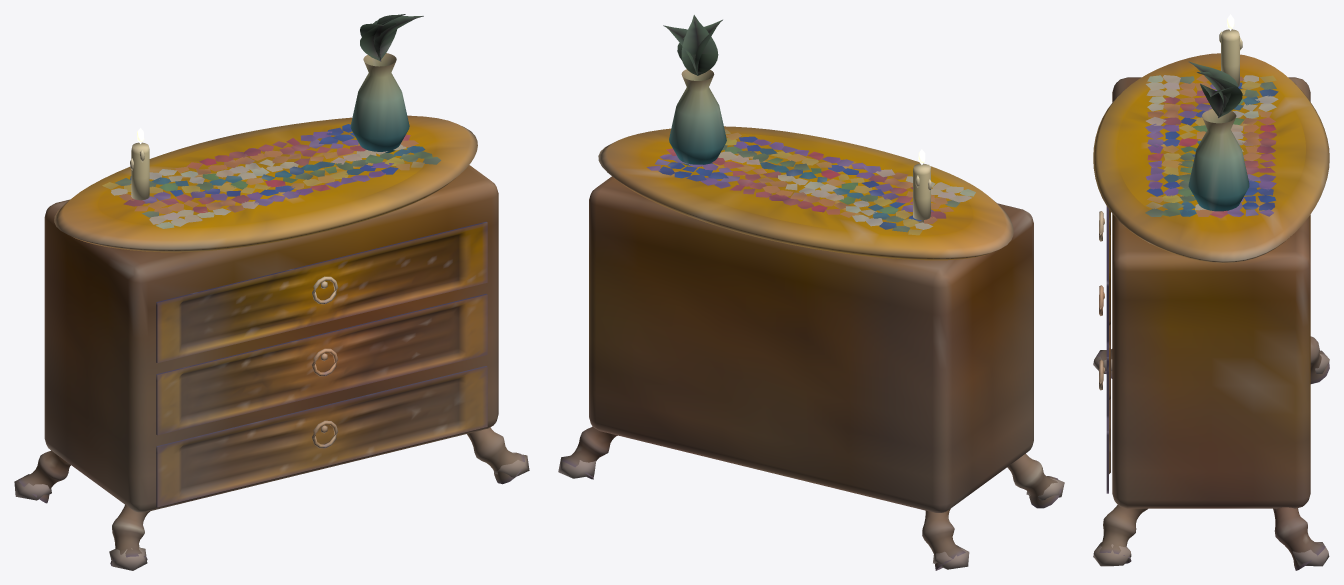
Rendered from gaudi_komodin.glb.
The picture shows the model from 3 angles, left to right: view 1: azimuth 30°, elevation 25°; view 2: azimuth 150°, elevation 25°; view 3: azimuth 270°, elevation 25°; orthographic projection. The views are drawn at different scales.
Parts seen in each view (by area): view 1: gaudi_komodin_LOD0; view 2: gaudi_komodin_LOD0; view 3: gaudi_komodin_LOD0.
Part boxes in pixels (<box>): gaudi_komodin_LOD0: <box>14,14,529,570</box>; gaudi_komodin_LOD0: <box>558,15,1064,570</box>; gaudi_komodin_LOD0: <box>1093,14,1329,570</box>.
Size of what is drawn, in the model's own units: 1.3 by 1.35 by 0.6205.
